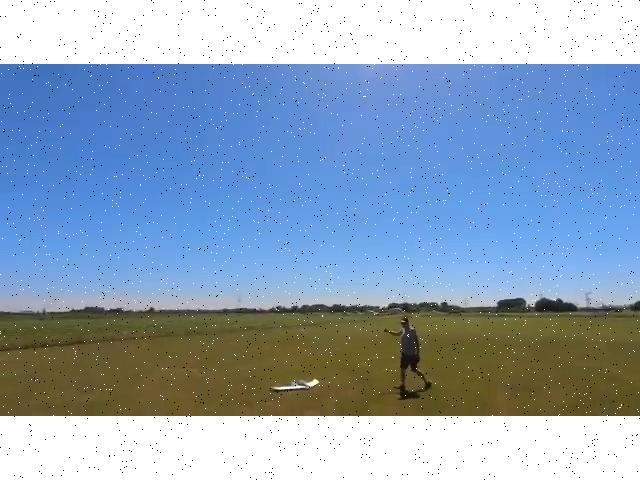Anti-Drone: (258, 368, 328, 396)
